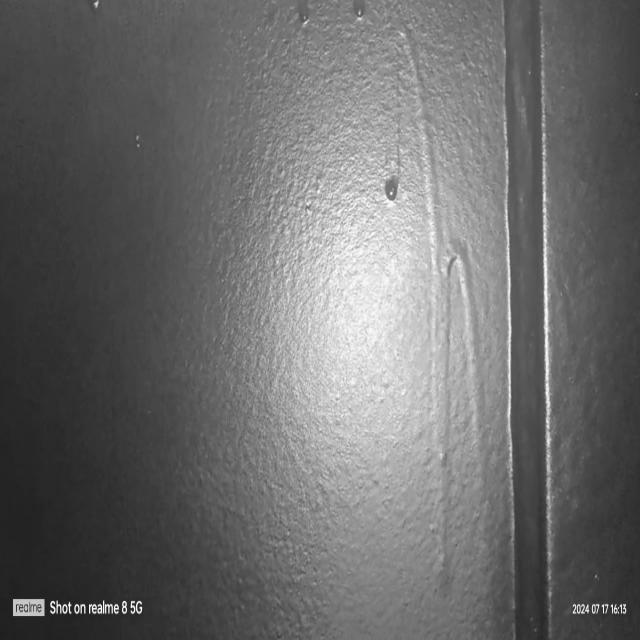paint drips: (382, 0, 501, 640), (287, 0, 323, 51), (350, 0, 376, 37), (84, 0, 104, 25)
